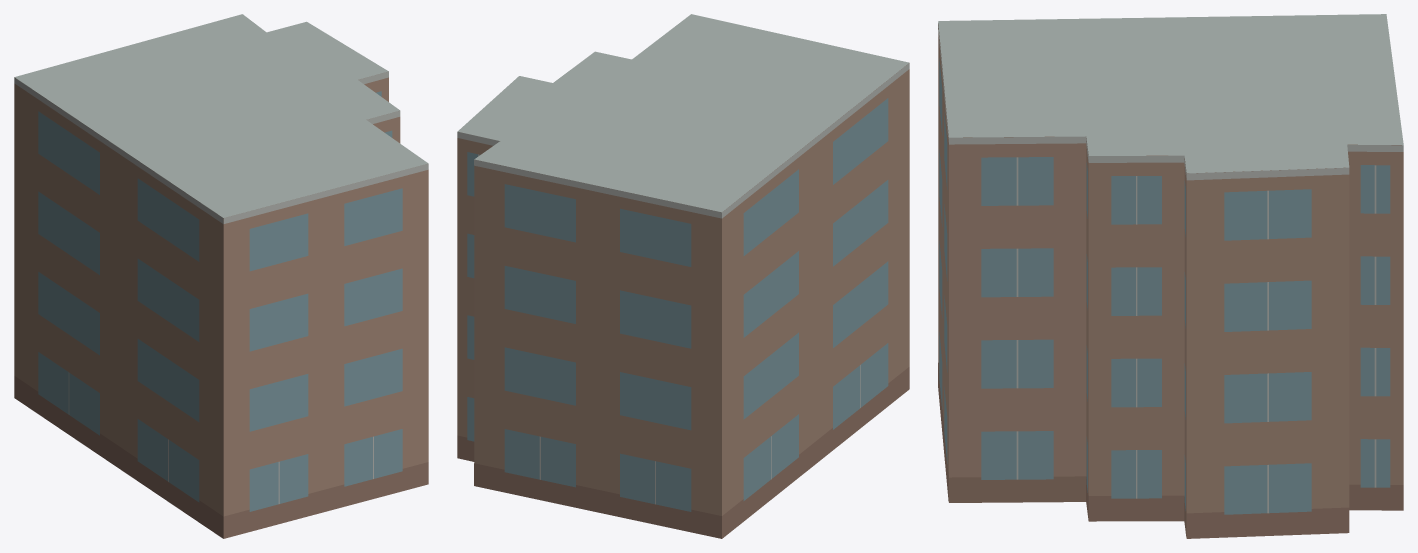
File: survey-upis-33030101.glb
3 renders of one model, left to right at view 1: azimuth 30°, elevation 25°; view 2: azimuth 150°, elevation 25°; view 3: azimuth 270°, elevation 25°, orthographic. The views are drawn at different scales.
Visible parts, largest first — view 1: survey-upis-33030101.tmp; view 2: survey-upis-33030101.tmp; view 3: survey-upis-33030101.tmp.
Boxes of the visible parts, <box> form: survey-upis-33030101.tmp: <box>14,14,428,538</box>; survey-upis-33030101.tmp: <box>457,14,909,538</box>; survey-upis-33030101.tmp: <box>938,14,1403,538</box>.
Bounding box in the file's own units: 11.99 × 12.8 × 14.79.
